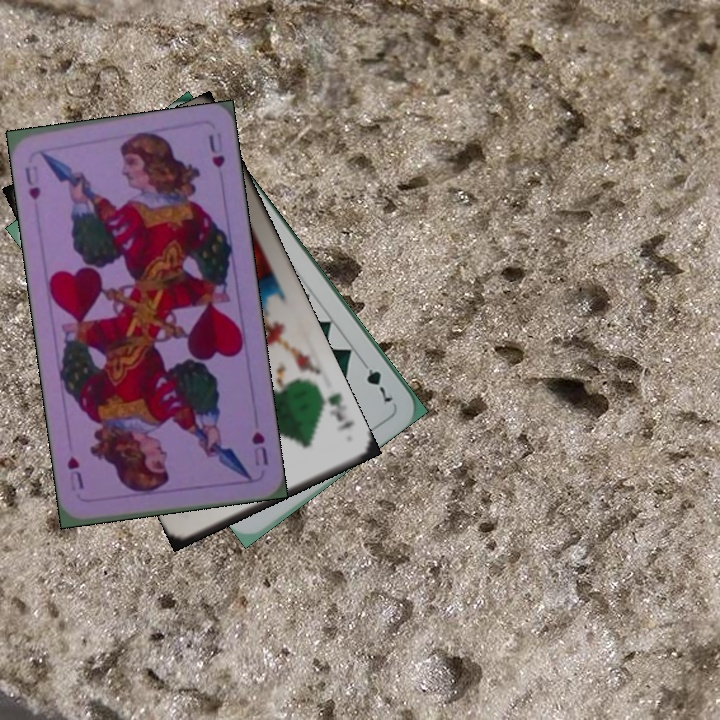G7: (356, 355, 396, 405)
GK: (315, 387, 357, 434)
HU: (247, 428, 271, 468), (20, 163, 43, 202)
